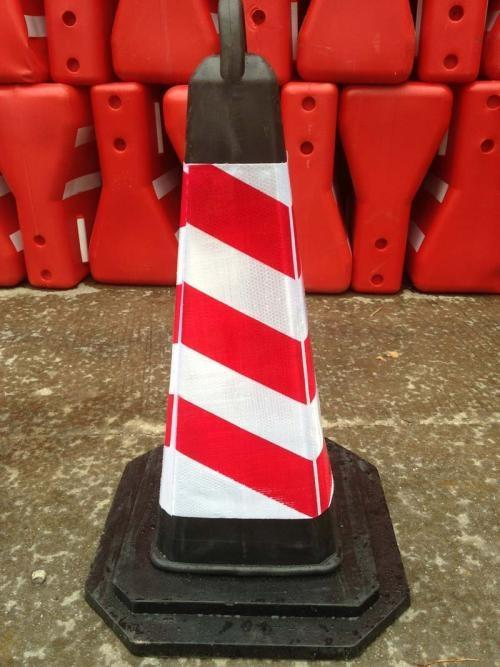cone_barrel: (134, 59, 345, 599)
